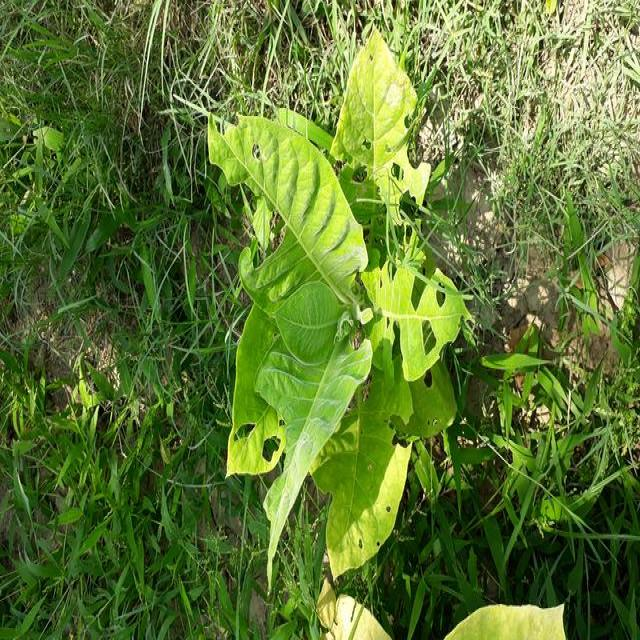crop: (209, 26, 460, 586)
